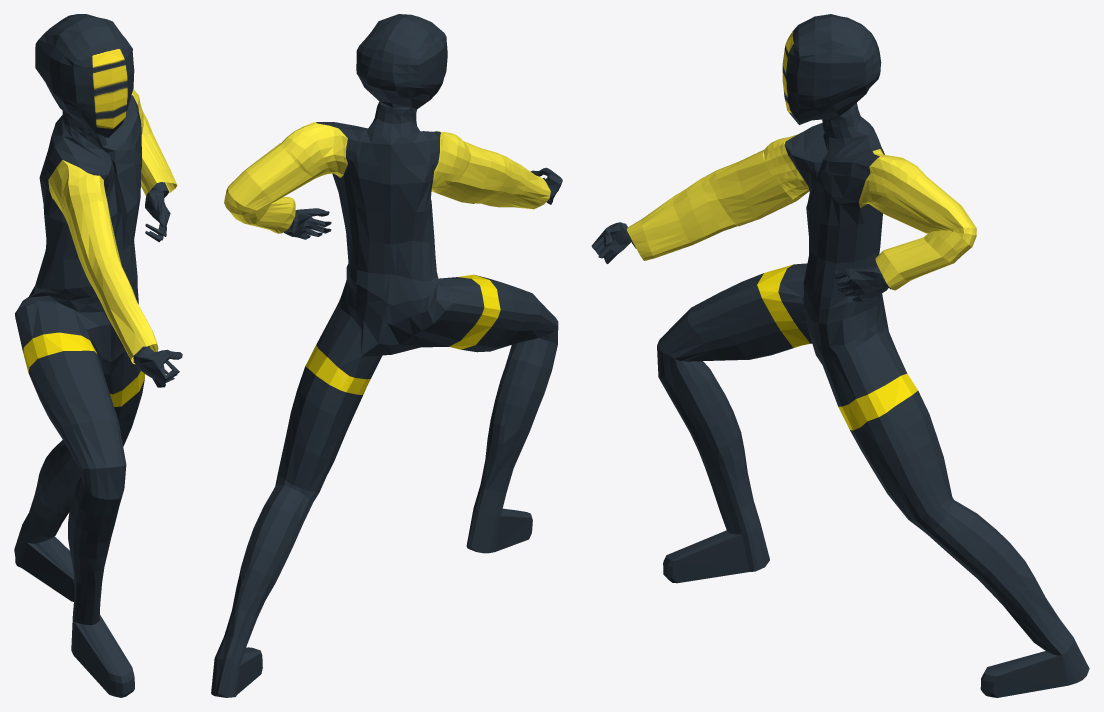
File: Sentry_WR_000008.obj
3 views of the same model, side by side, from view 1: azimuth 30°, elevation 25°; view 2: azimuth 150°, elevation 25°; view 3: azimuth 270°, elevation 25° (orthographic). The views are drawn at different scales.
Parts seen in each view (by area): view 1: Cube; view 2: Cube; view 3: Cube.
Boxes of the visible parts, x1=… form: Cube: x1=14, y1=14, x2=182, y2=697; Cube: x1=211, y1=14, x2=562, y2=697; Cube: x1=591, y1=14, x2=1089, y2=697.
Bounding box in the file's own units: 1.2 × 3.62 × 2.56.
